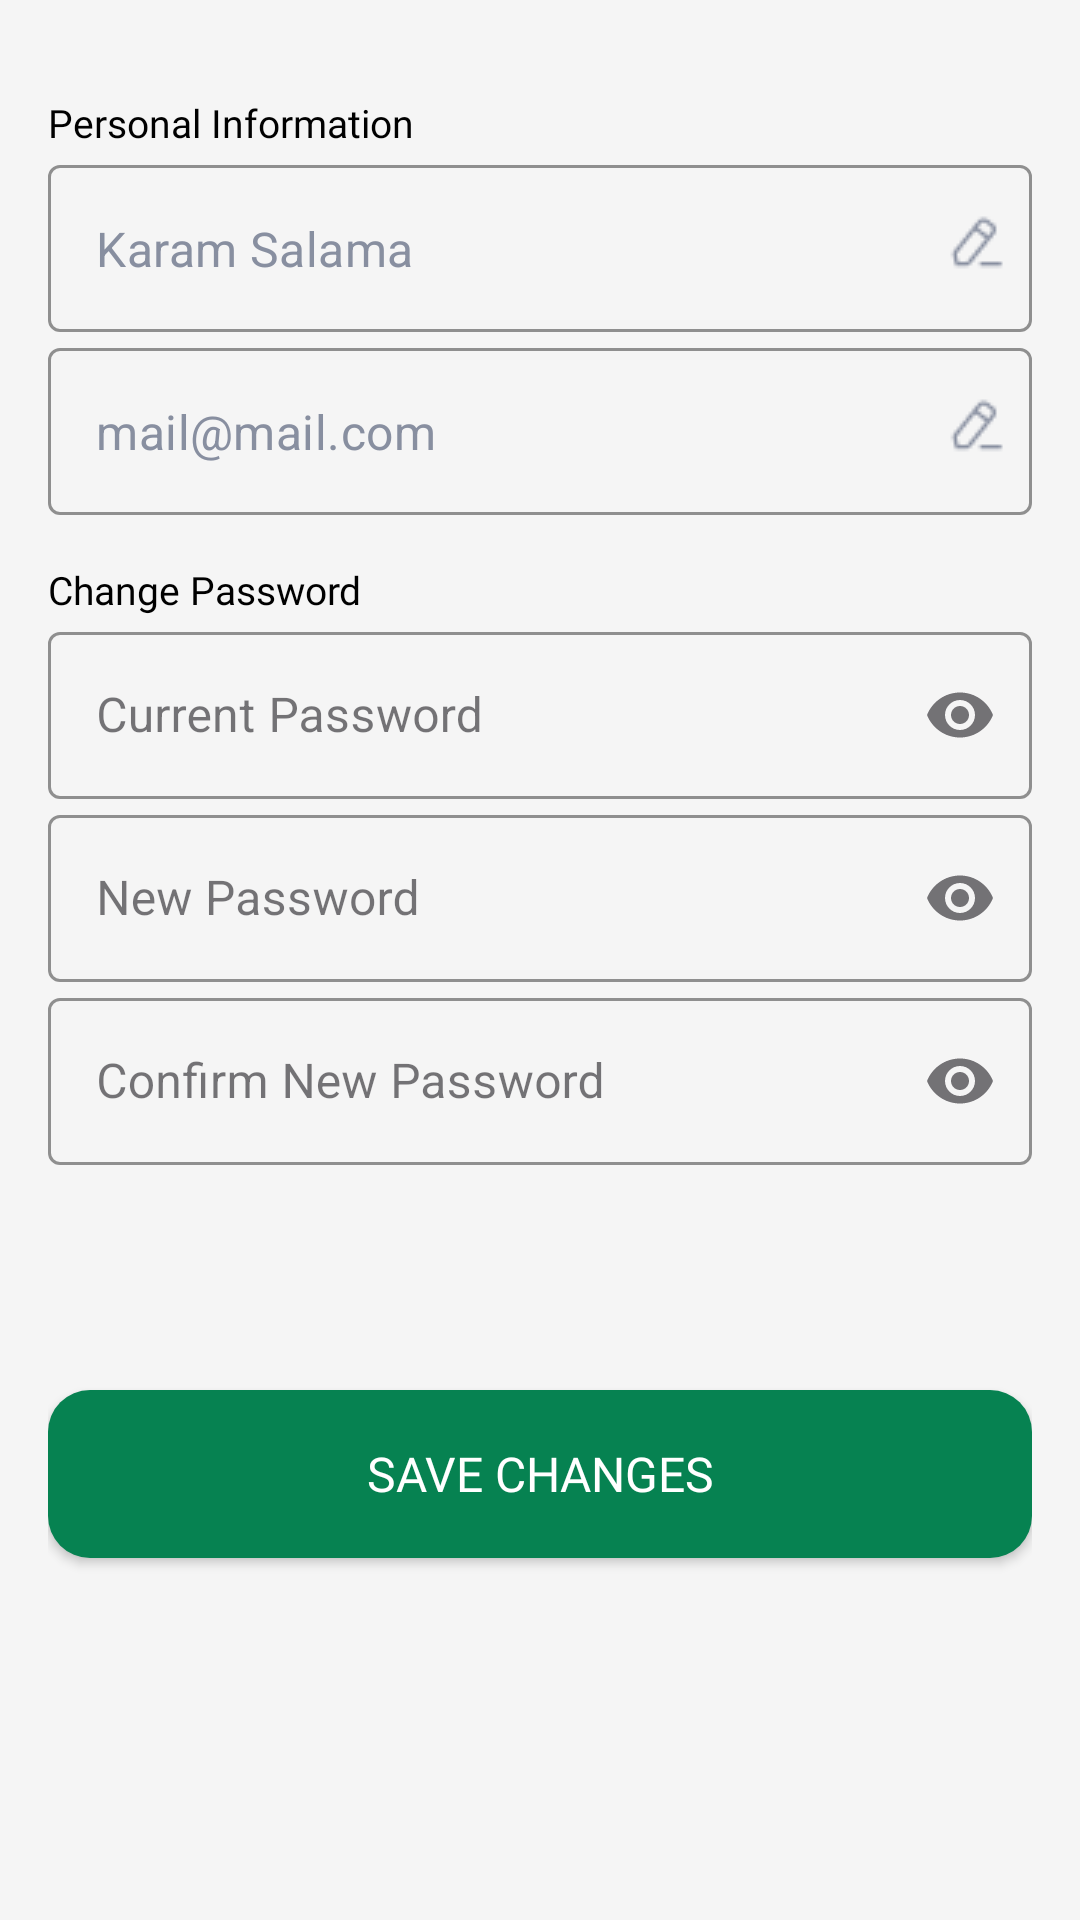

Icon click points for this 1080w x 1920h phone screenshot, format (x=x, y=y):
Edit Email: (x=977, y=425)
Edit Name: (x=977, y=242)
